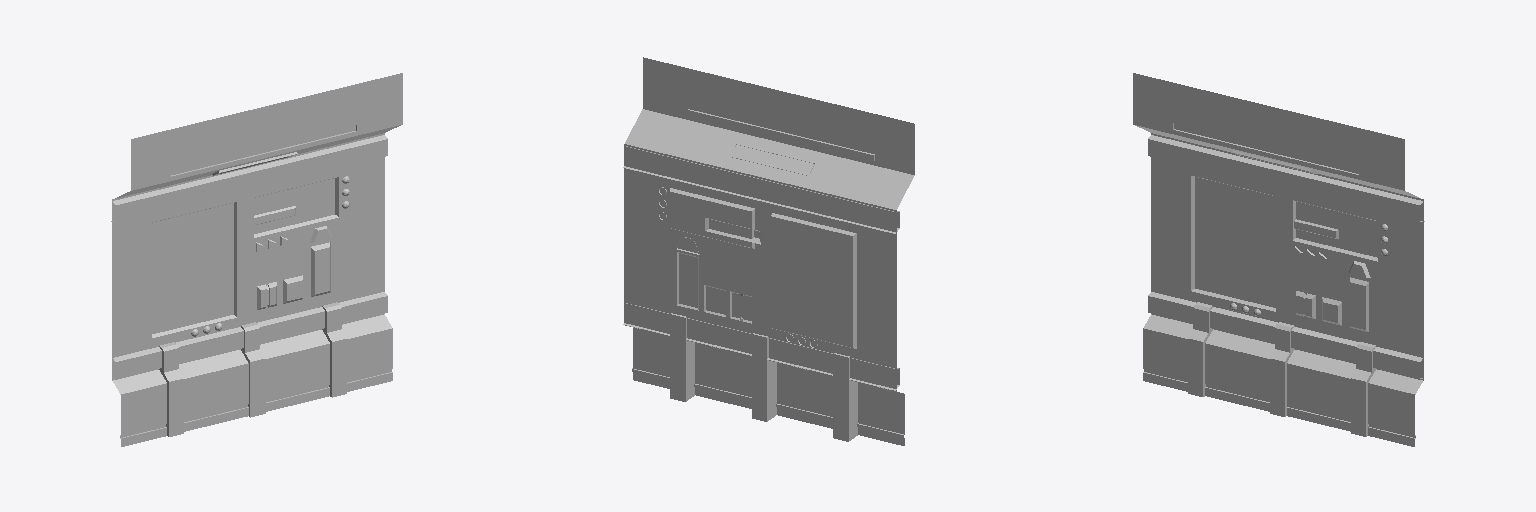
The model's file is Wall_1.obj.
3 renders of one model, left to right at view 1: azimuth 30°, elevation 25°; view 2: azimuth 150°, elevation 25°; view 3: azimuth 330°, elevation 25°, orthographic.
Parts seen in each view (by area): view 1: Wall_1_Plane.063; view 2: Wall_1_Plane.063; view 3: Wall_1_Plane.063.
Boxes of the visible parts, box(x1,y1,x2,y2) form: Wall_1_Plane.063: box(111, 73, 402, 446); Wall_1_Plane.063: box(623, 57, 914, 445); Wall_1_Plane.063: box(1133, 73, 1424, 446).
Size of the model in its own units: 4 by 4.43 by 0.5447.